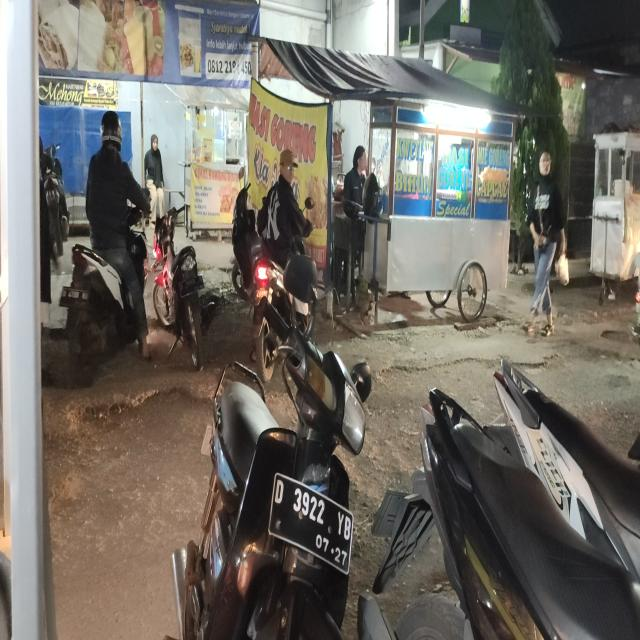helmet: (98, 108, 124, 152)
no-helmet: (279, 149, 298, 181)
